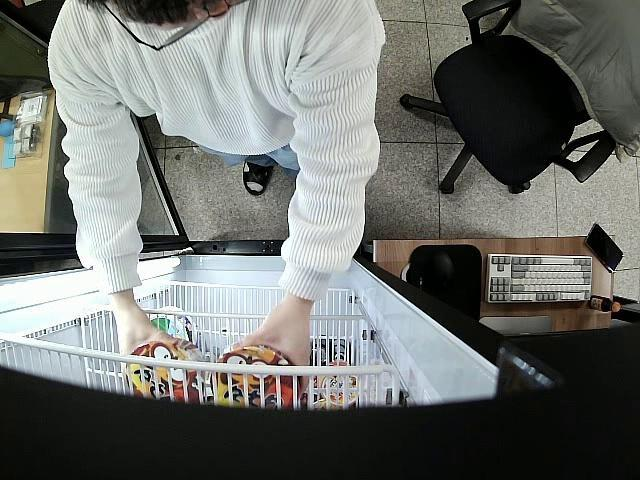05_nuguri_L: (208, 348, 300, 414), (126, 339, 207, 405)
